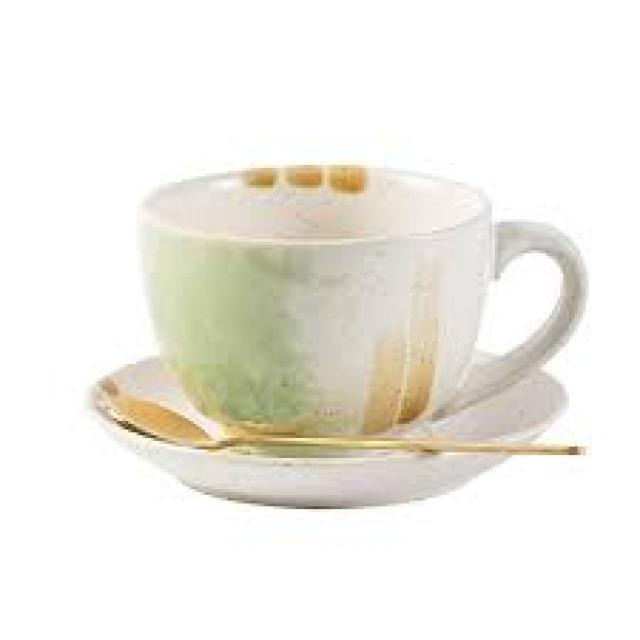taza: (121, 140, 596, 434)
